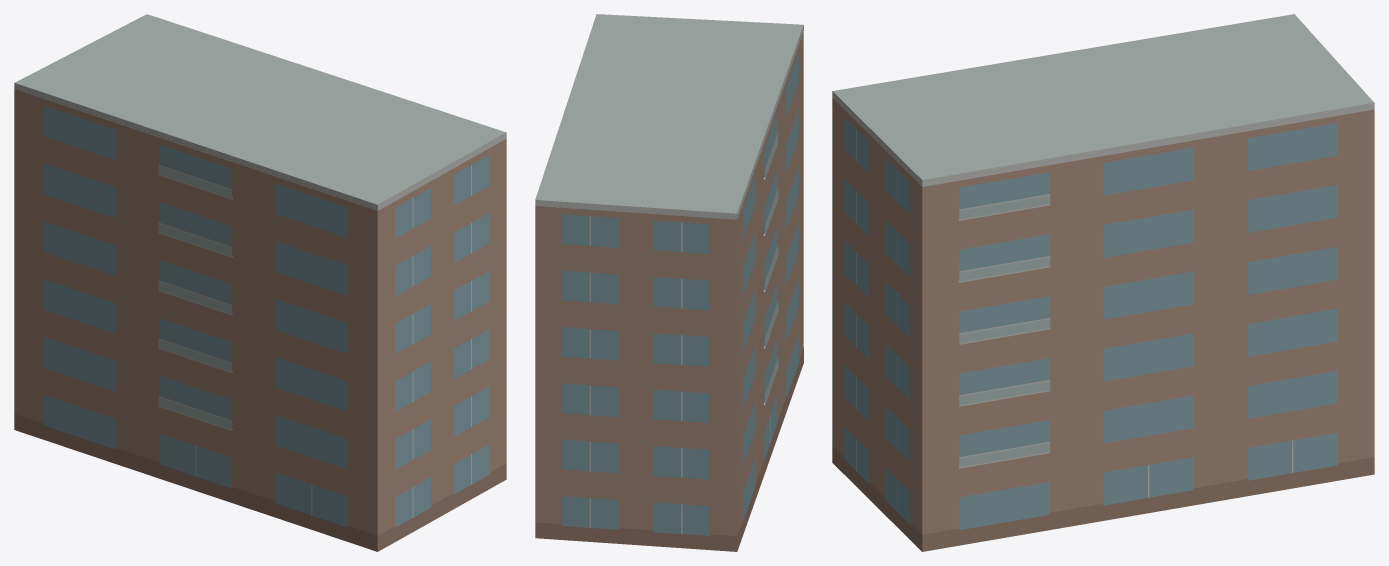
The model's file is survey-upis-32881681.glb.
3 views of the same model, side by side, from view 1: azimuth 30°, elevation 25°; view 2: azimuth 150°, elevation 25°; view 3: azimuth 270°, elevation 25° (orthographic). The views are drawn at different scales.
Visible parts, largest first — view 1: survey-upis-32881681.tmp; view 2: survey-upis-32881681.tmp; view 3: survey-upis-32881681.tmp.
Part boxes in pixels (x1,y1,x2,y2): survey-upis-32881681.tmp: (14, 14, 506, 551); survey-upis-32881681.tmp: (535, 14, 803, 551); survey-upis-32881681.tmp: (832, 14, 1374, 551).
Size of the model in its own units: 12.96 by 13.5 by 17.86.
